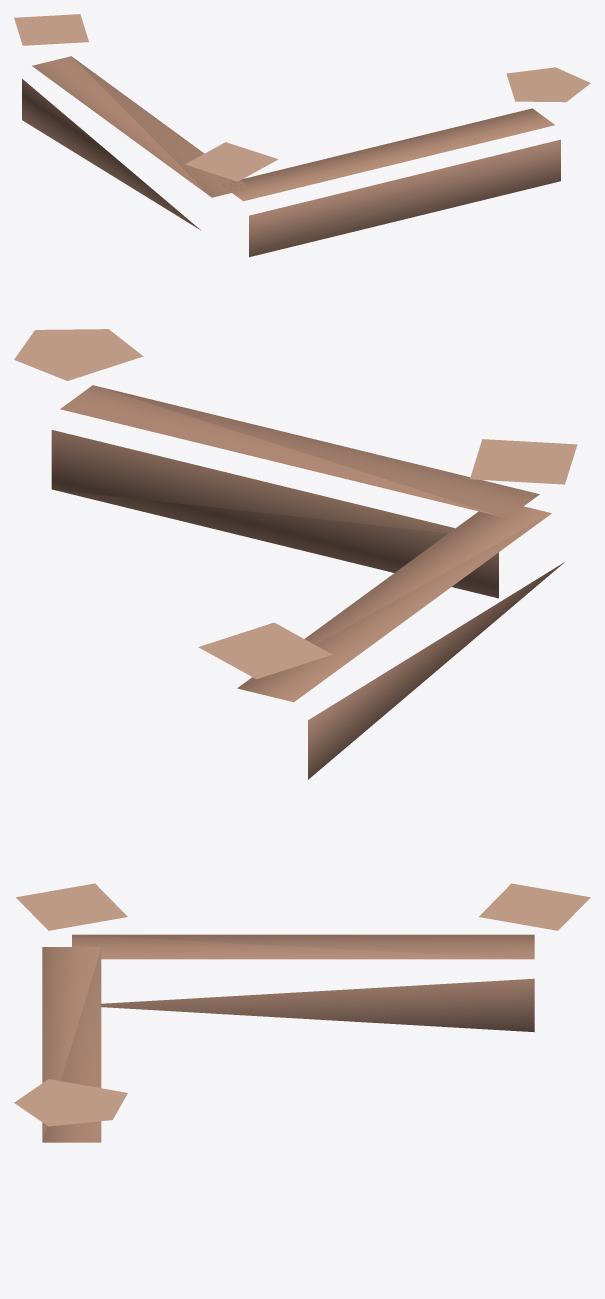
File: fence_corner.glb
The picture shows the model from 3 angles, top to bottom: view 1: azimuth 30°, elevation 25°; view 2: azimuth 150°, elevation 25°; view 3: azimuth 270°, elevation 25°; orthographic projection. The views are drawn at different scales.
Parts seen in each view (by area): view 1: fence_corner; view 2: fence_corner; view 3: fence_corner.
Boxes of the visible parts, left/top/right/bottom form: fence_corner: left=14, top=14, right=590, bottom=257; fence_corner: left=14, top=329, right=577, bottom=779; fence_corner: left=14, top=883, right=590, bottom=1142.
Size of the model in its own units: 0.9971 by 0.3 by 0.9971.
